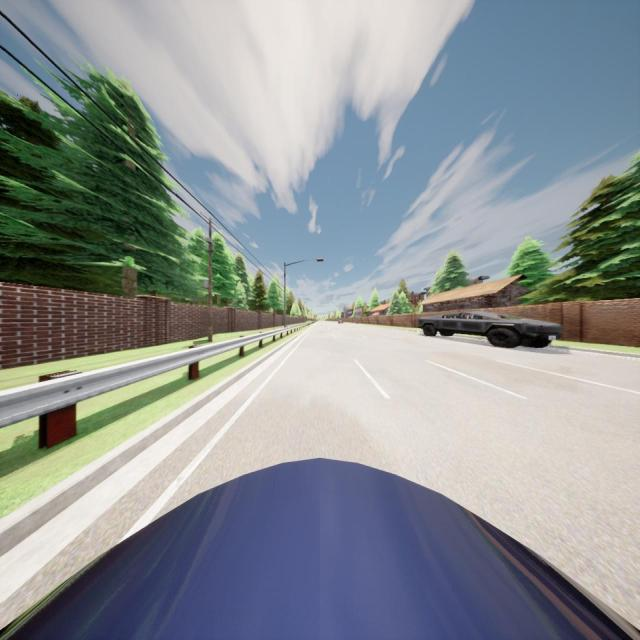Vehicle: (0, 457, 640, 640), (417, 310, 563, 347), (338, 319, 343, 324)
